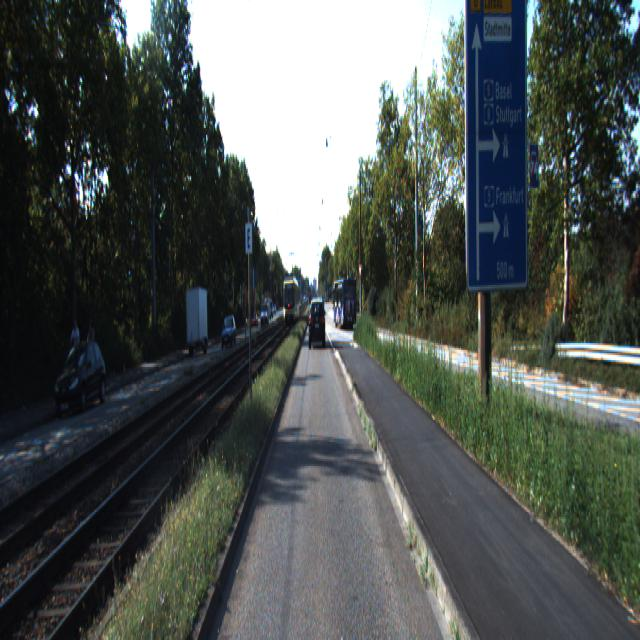Car: (54, 338, 108, 416), (185, 285, 208, 355), (333, 274, 357, 328), (309, 297, 325, 346), (220, 316, 237, 351)
